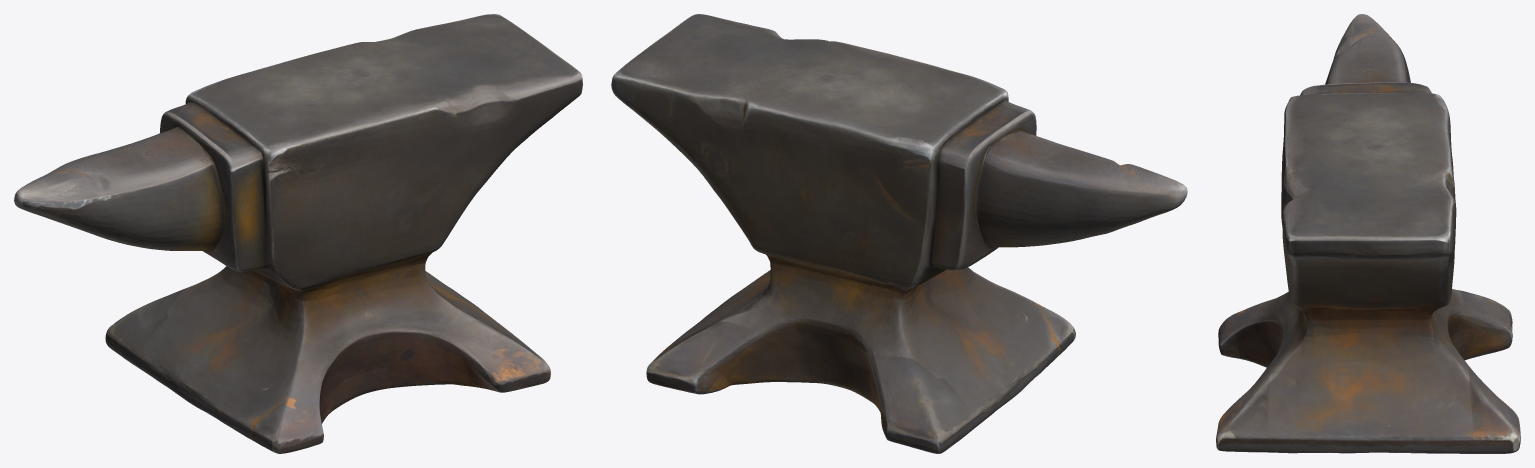
Rendered from Anvil.fbx.
The picture shows the model from 3 angles, left to right: view 1: azimuth 30°, elevation 25°; view 2: azimuth 150°, elevation 25°; view 3: azimuth 270°, elevation 25°; orthographic projection. The views are drawn at different scales.
Parts seen in each view (by area): view 1: temp; view 2: temp; view 3: temp.
Part boxes in pixels (x1,y1,x2,y2): temp: (14, 14, 582, 453); temp: (611, 14, 1187, 453); temp: (1216, 14, 1520, 453).
Bounding box in the file's own units: 200 × 102 × 106.
1 material, 1 textured.
